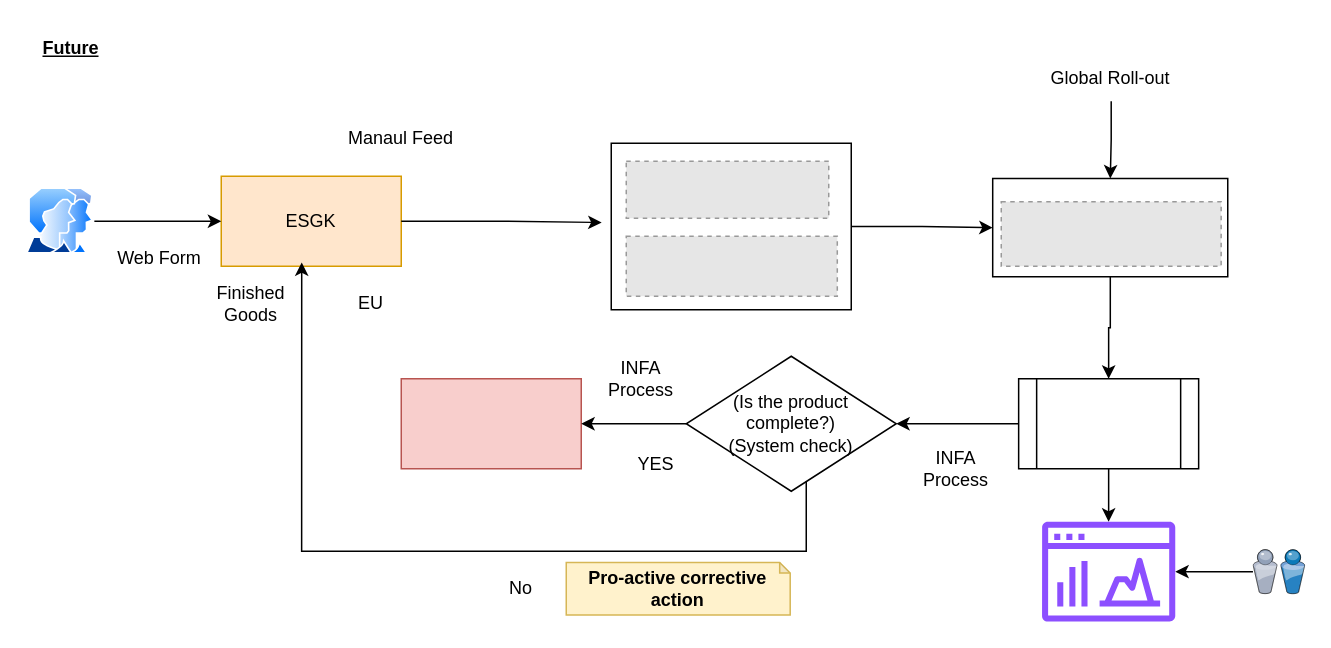
The diagram is 1331 pixels wide and 648 high, and some of its shapes have lost their labels. Grey dashed boxes stand in for pictures. The shapes that lost their labels are listed below. From the top down, each one's centre as x and y in pixels, then its label:
At pixel 490 423: "S4 HANA".
At pixel 1108 423: "Completeness check (via dashboard)".
